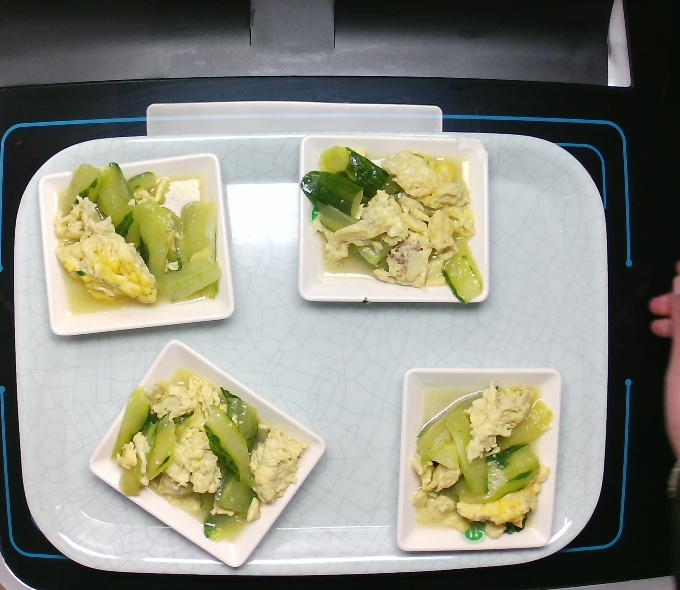wcq-DanHuangHuangGua: (99, 375, 290, 547), (297, 146, 490, 285), (40, 168, 233, 307), (405, 374, 553, 546)
